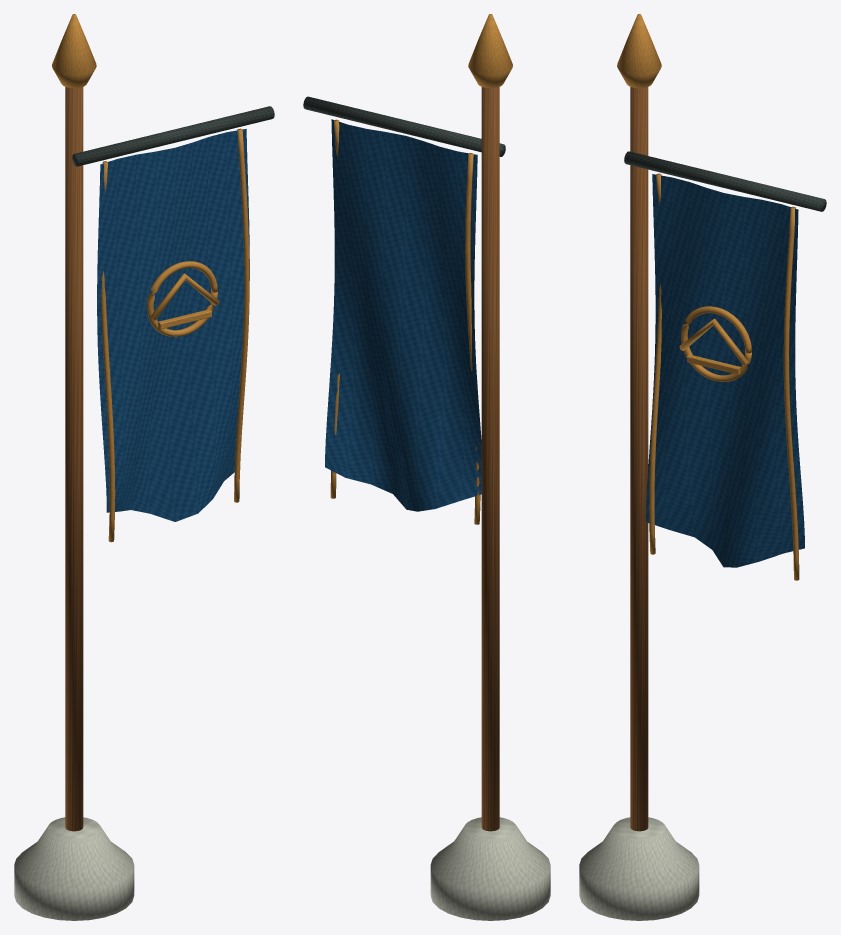
Rendered from guild_banner_pole.glb.
3 renders of one model, left to right at view 1: azimuth 30°, elevation 25°; view 2: azimuth 150°, elevation 25°; view 3: azimuth 330°, elevation 25°, orthographic.
Parts seen in each view (by area): view 1: guild_banner_pole_Cloth, guild_banner_pole_Joinery, guild_banner_pole_Metalwork, guild_banner_pole_Structure; view 2: guild_banner_pole_Cloth, guild_banner_pole_Joinery, guild_banner_pole_Structure, guild_banner_pole_Metalwork; view 3: guild_banner_pole_Cloth, guild_banner_pole_Joinery, guild_banner_pole_Metalwork, guild_banner_pole_Structure.
Part boxes in pixels (box(x1,y1,x2,y2)): guild_banner_pole_Cloth: box(97, 129, 249, 521); guild_banner_pole_Joinery: box(65, 87, 83, 831); guild_banner_pole_Metalwork: box(52, 14, 274, 542); guild_banner_pole_Structure: box(14, 817, 134, 920); guild_banner_pole_Cloth: box(325, 119, 481, 511); guild_banner_pole_Joinery: box(481, 87, 499, 831); guild_banner_pole_Structure: box(430, 817, 550, 920); guild_banner_pole_Metalwork: box(303, 14, 512, 524); guild_banner_pole_Cloth: box(646, 174, 804, 567); guild_banner_pole_Joinery: box(630, 87, 648, 831); guild_banner_pole_Metalwork: box(617, 14, 826, 580); guild_banner_pole_Structure: box(579, 817, 699, 920).
Bounding box in the file's own units: 1.49 × 5.18 × 0.64.
2 materials, 2 textured.
